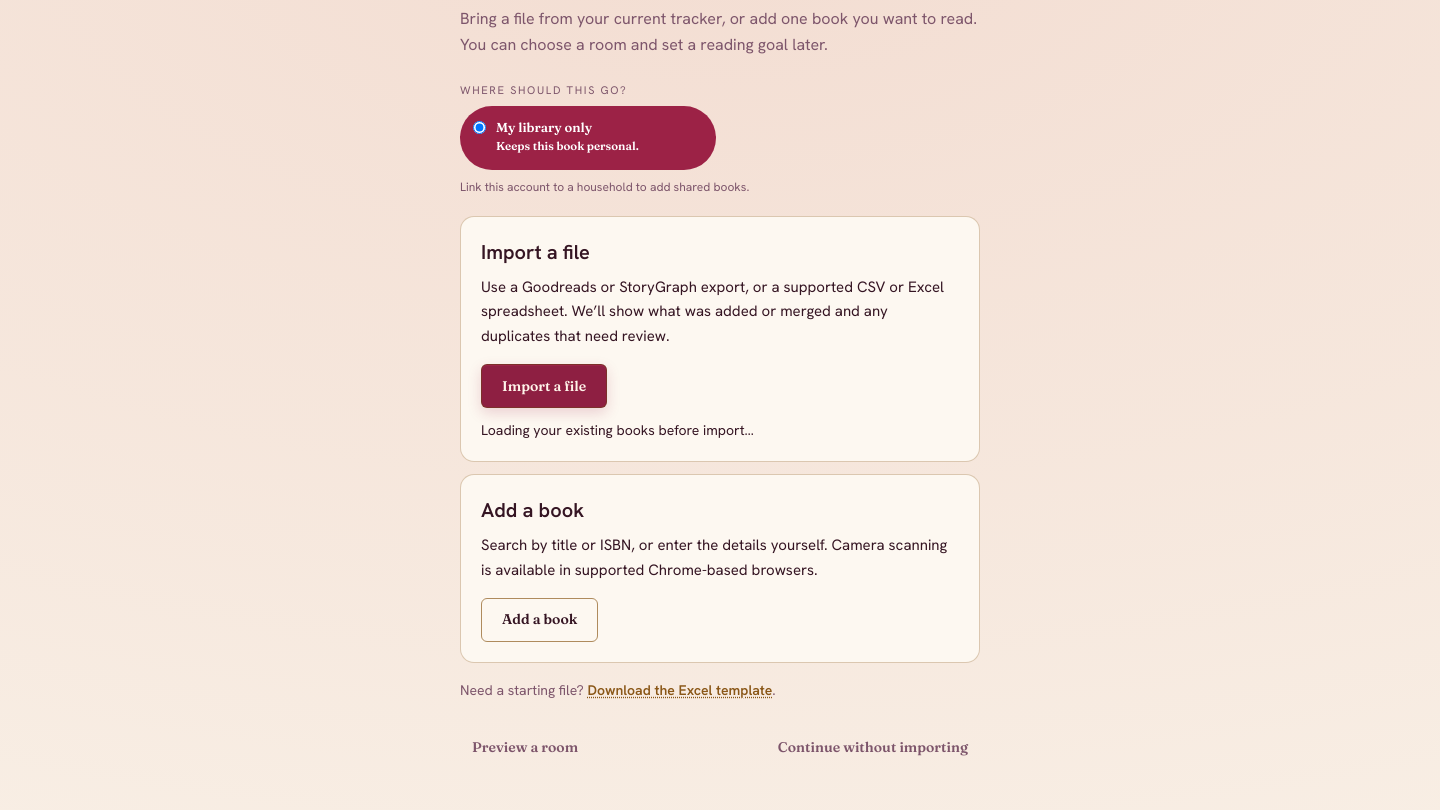
Test: book-first onboarding › does not claim an empty library while completion is still loading
The image size is (1440, 810).
(page scrolled)
Click the button "Continue without importing" at (873, 748), box [766, 726, 980, 770]
(page scrolled)
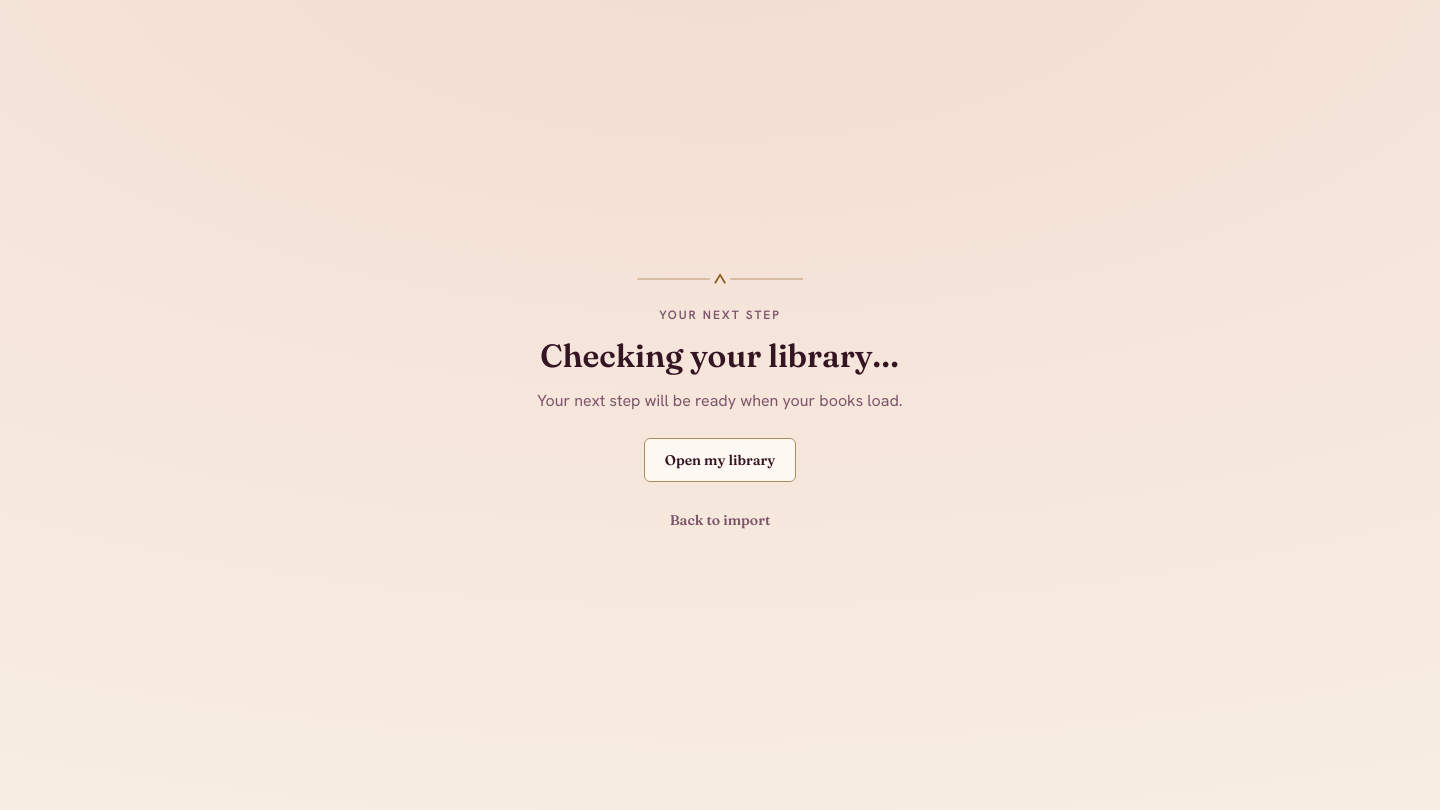
Expected: the heading "Checking your library…" is shown, [540, 336, 900, 375]
Expected: the heading "Add a book" is gone
